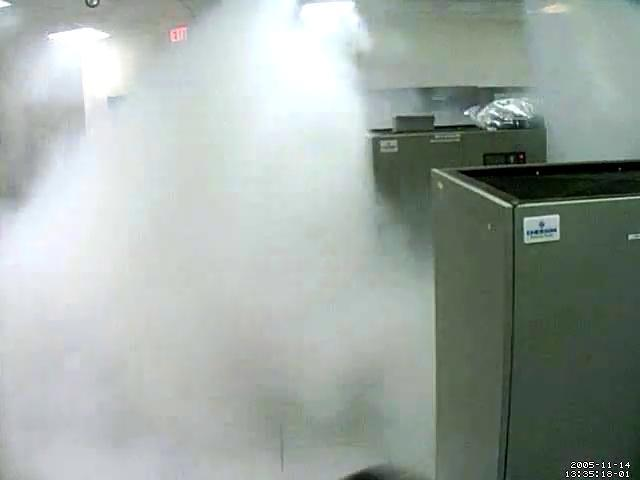smoke: (9, 6, 521, 390)
